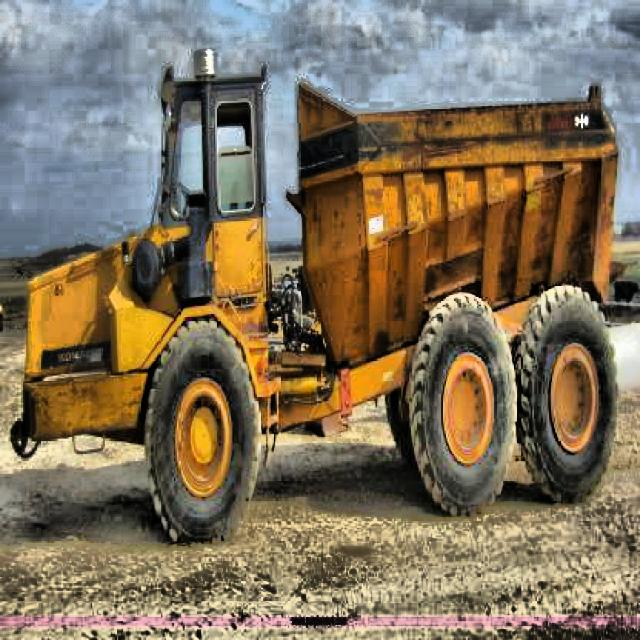dump_truck: (20, 45, 616, 540)
